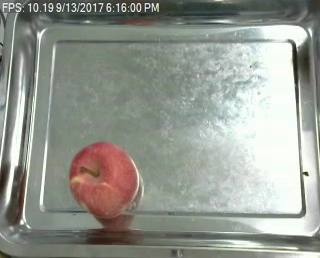Apple: (69, 141, 139, 219)
